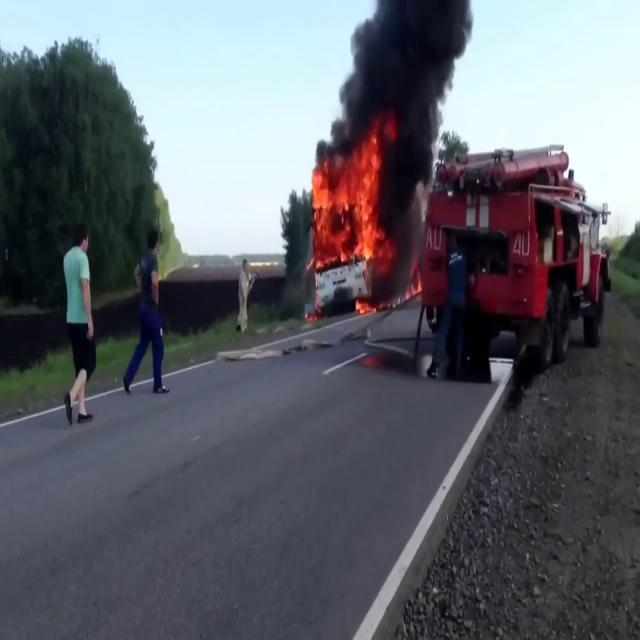Fire: (310, 134, 390, 282)
Smoke: (333, 0, 480, 233)
